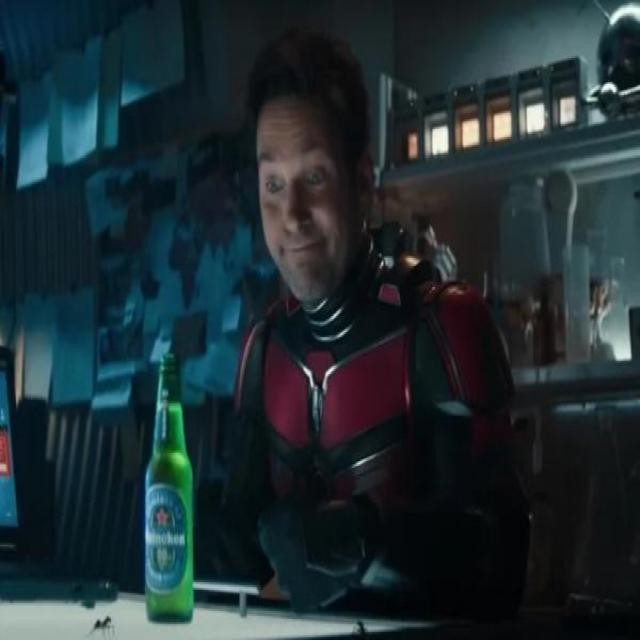beer-bottle: (132, 344, 207, 634)
